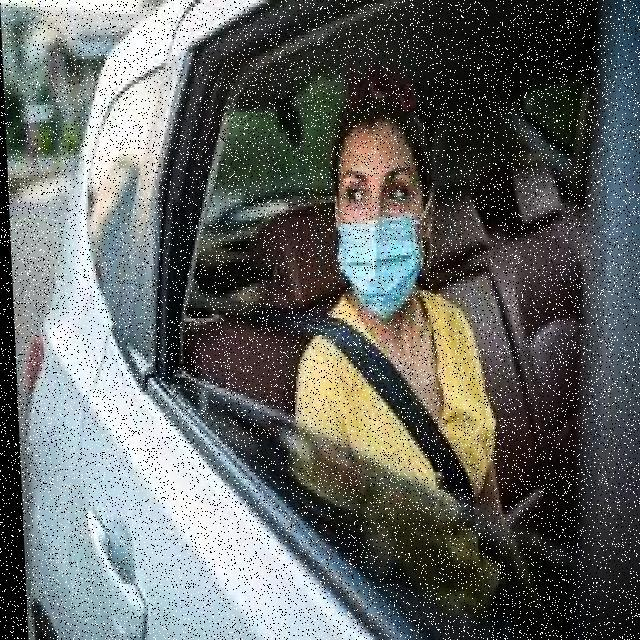seatbelt: (281, 288, 506, 531)
